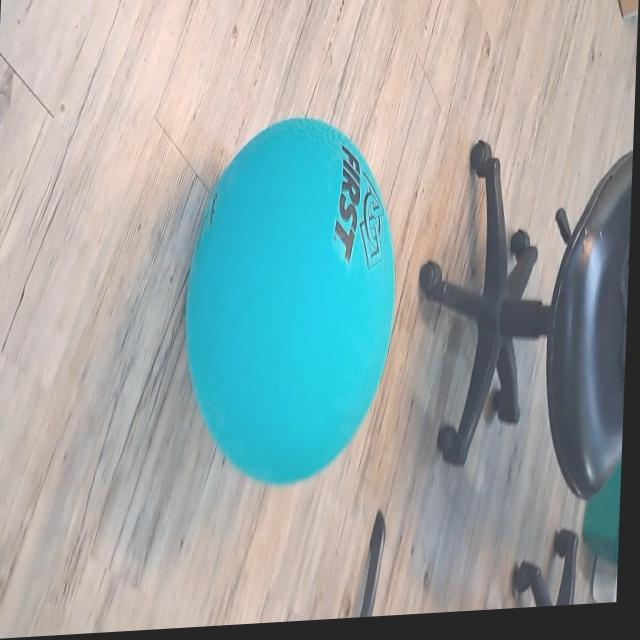ALGAE: (177, 108, 403, 493)
